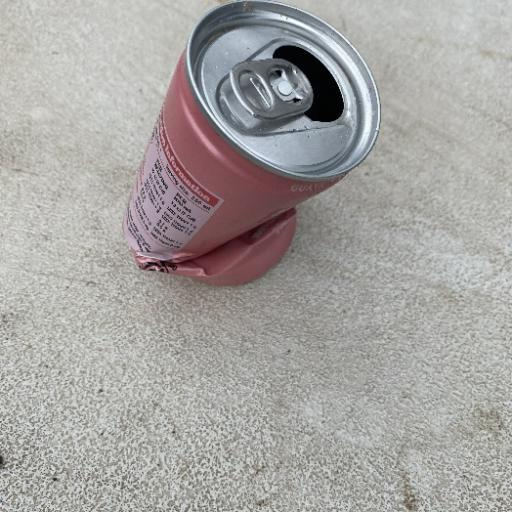Metal: (120, 0, 383, 287)
